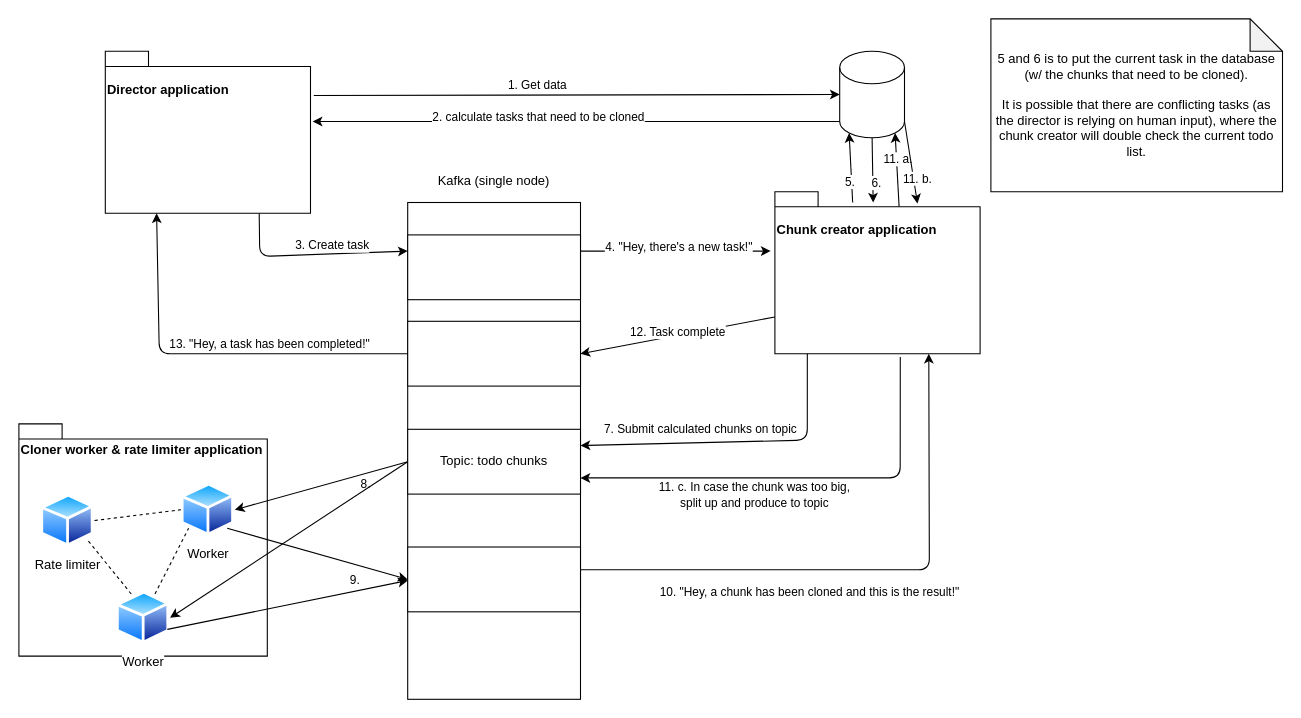
Some shapes in this 1301 by 718 pixel diagram are drawn without their labels. Each missing label, with the centre of its shape:
MySql: point (872, 94)
Topic: completed chunks: point (493, 579)
Topic: completed tasks: point (493, 353)
Topic: todo tasks: point (493, 267)
